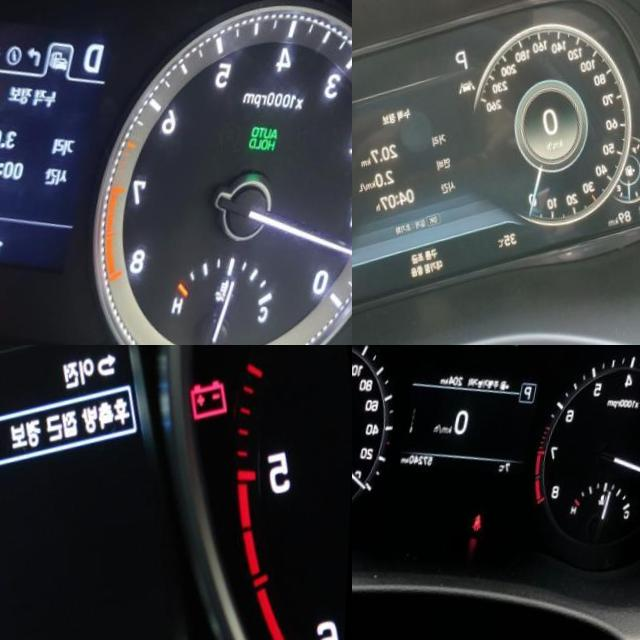LaneCenteringOff: (459, 81, 481, 100)
Low beam: (510, 345, 523, 352)
SideLamp: (490, 345, 506, 350)
